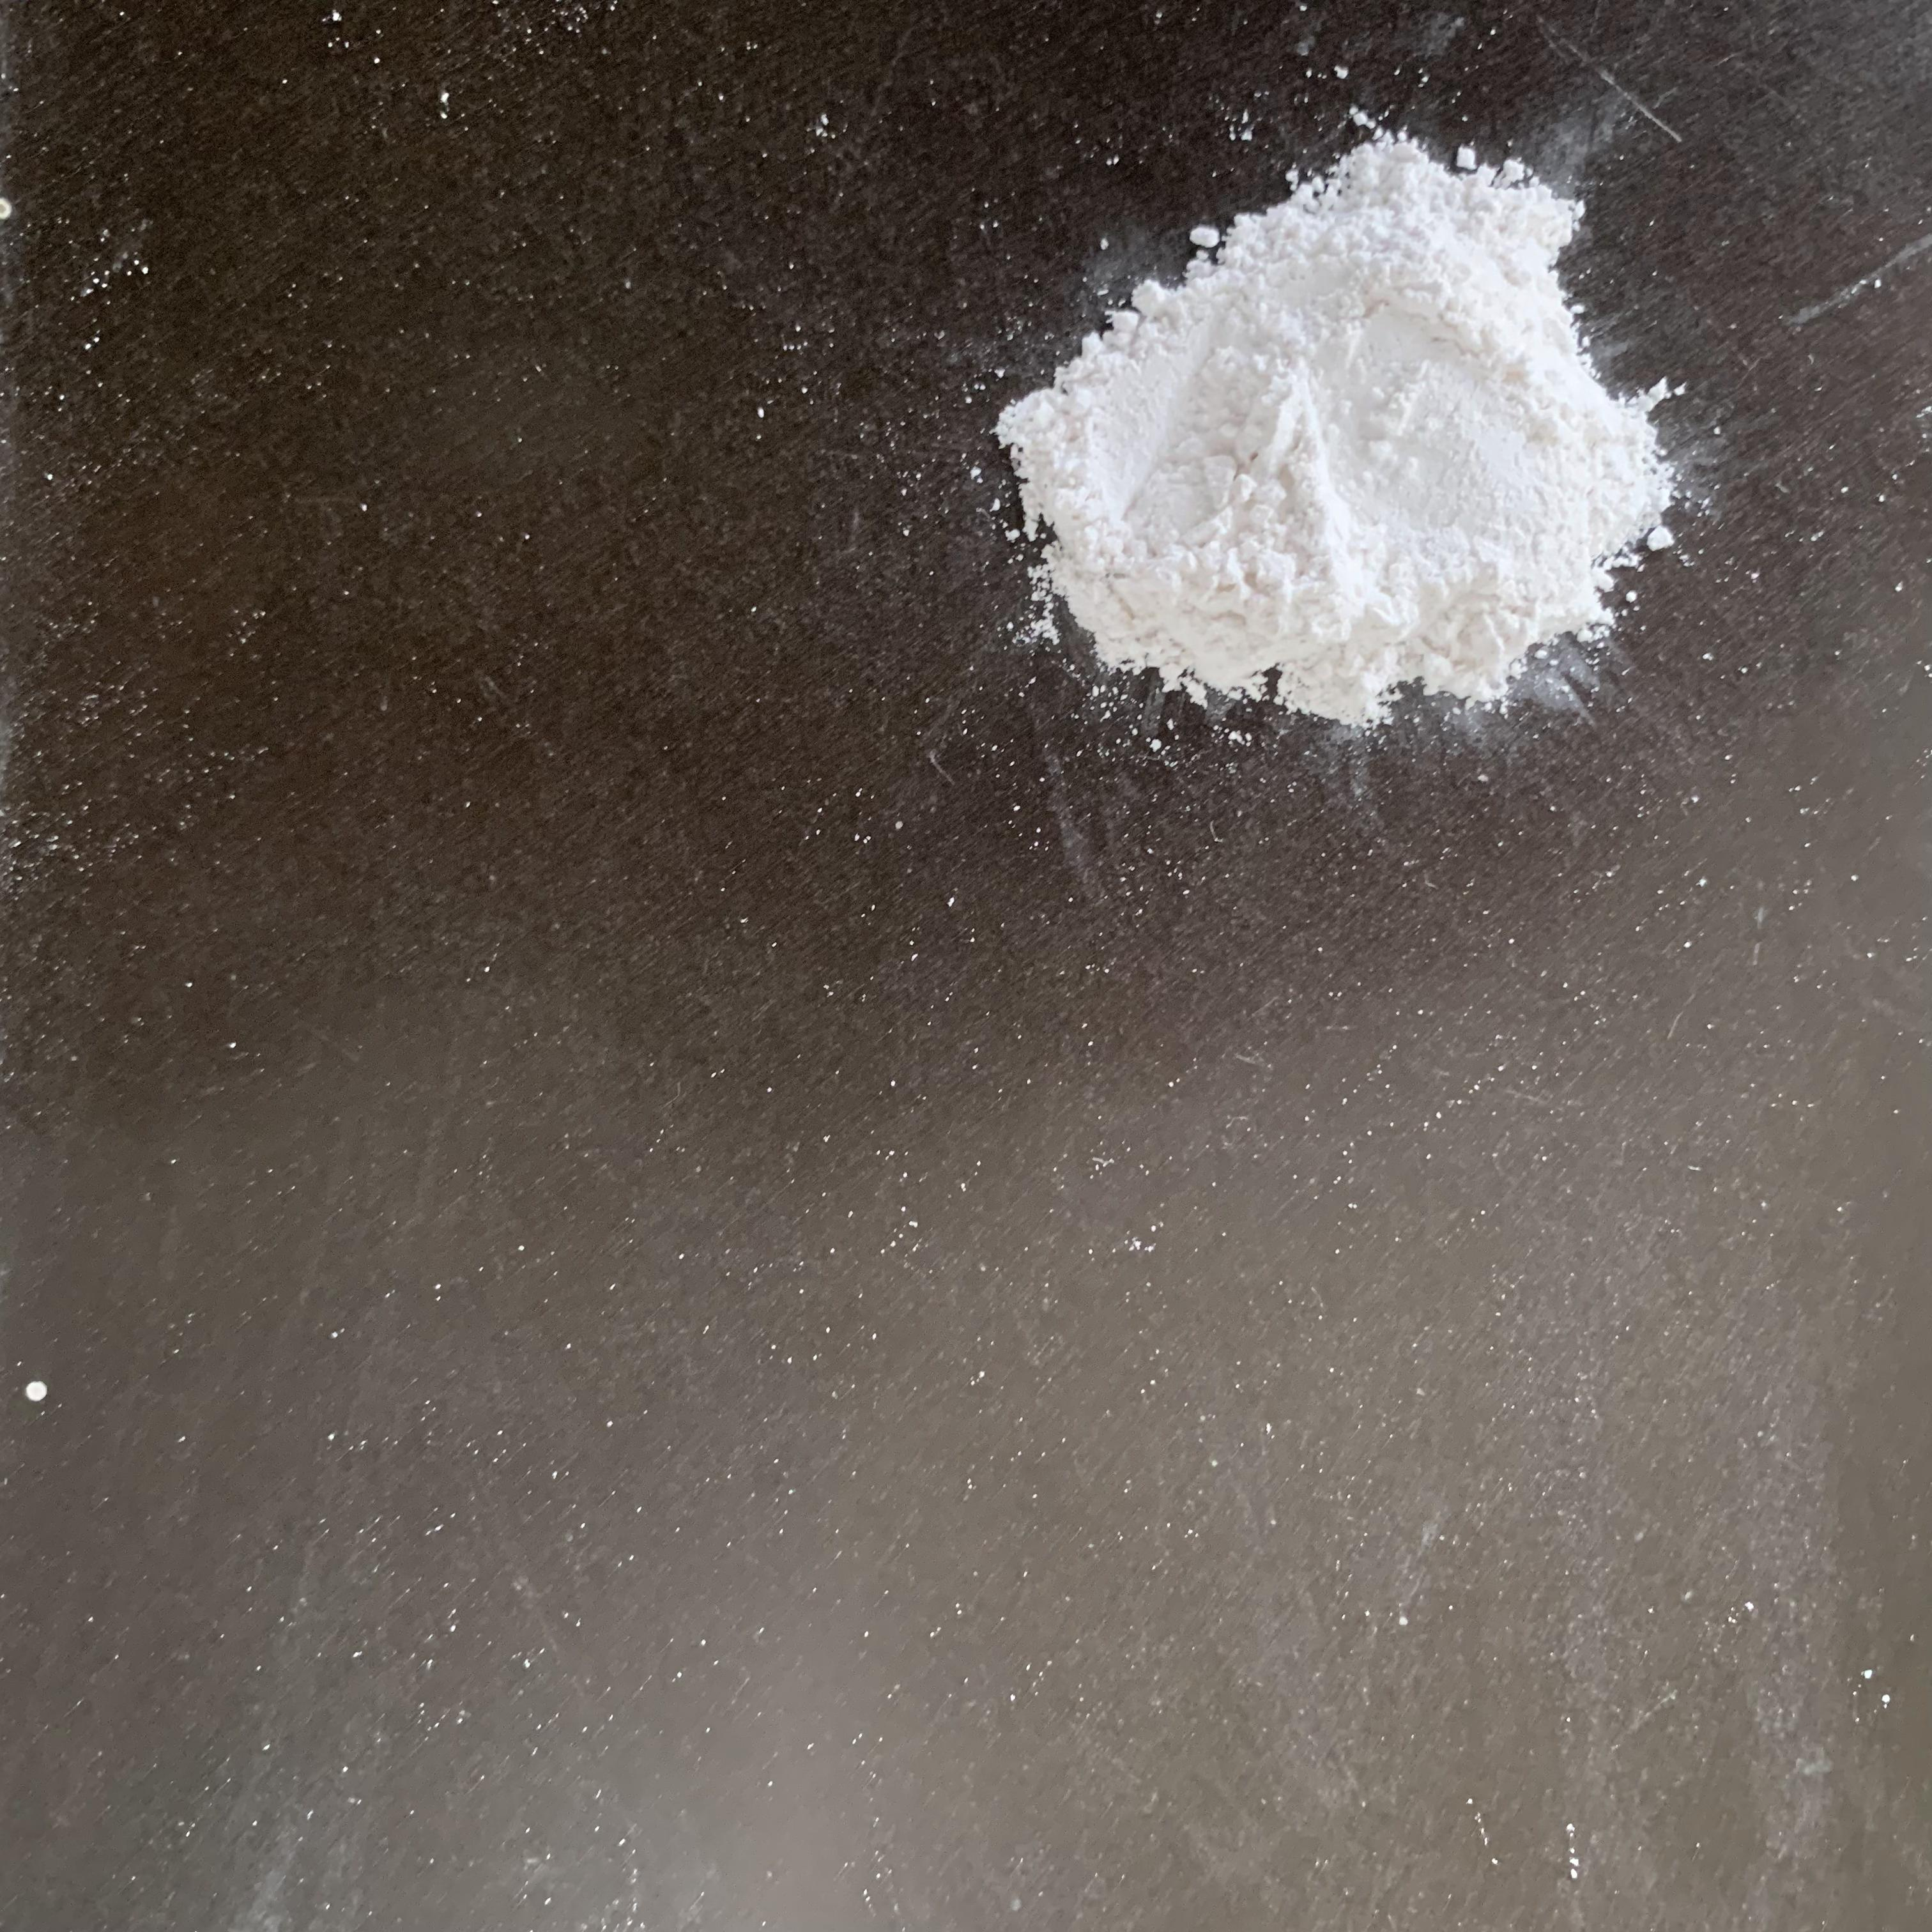ash pile: (994, 129, 1686, 738)
